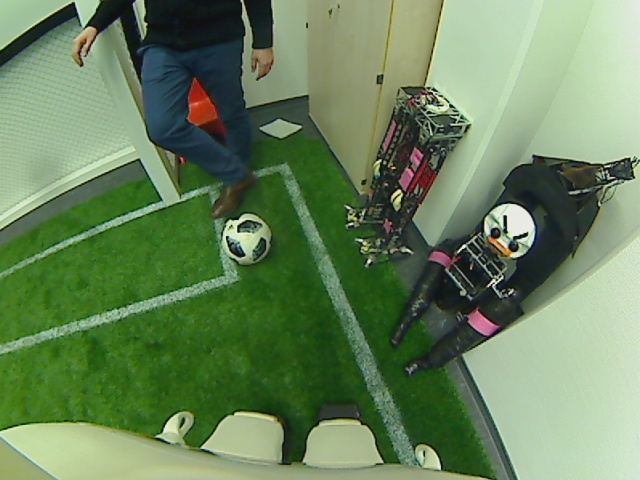ball: (220, 212, 272, 263)
